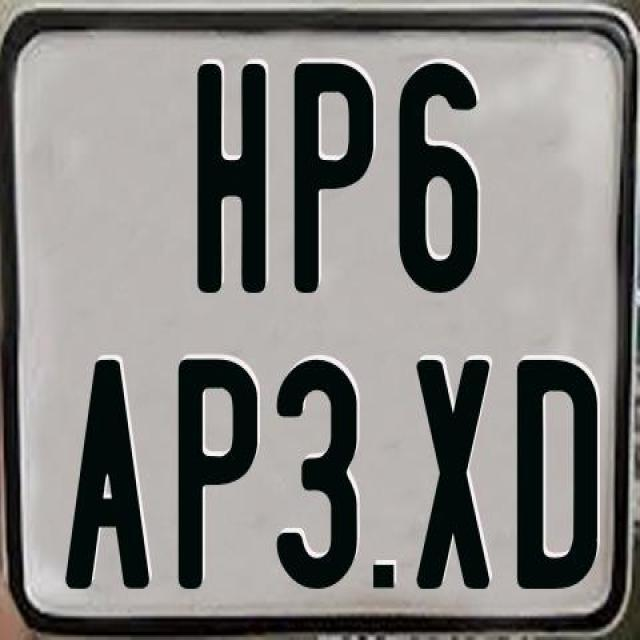3: (272, 360, 359, 595)
6: (394, 62, 480, 301)
A: (61, 360, 148, 597)
D: (514, 360, 596, 590)
H: (196, 61, 270, 290)
P: (175, 354, 258, 588), (294, 58, 378, 288)
X: (414, 358, 492, 596)
